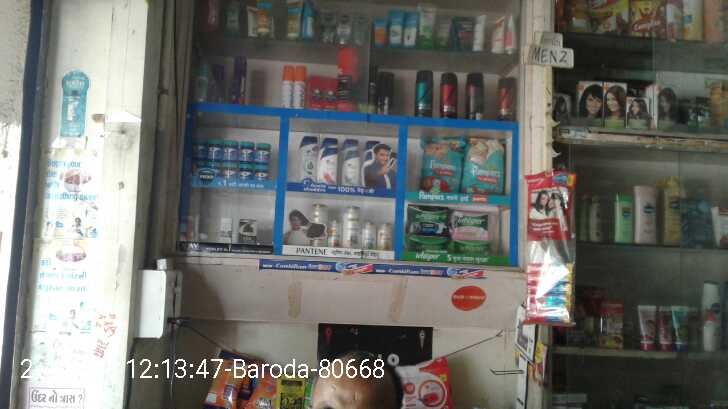vicks: (235, 143, 255, 162), (221, 138, 235, 162), (192, 137, 207, 159), (255, 143, 271, 163), (209, 138, 221, 160), (241, 165, 256, 181), (256, 165, 270, 181), (226, 165, 241, 179)
